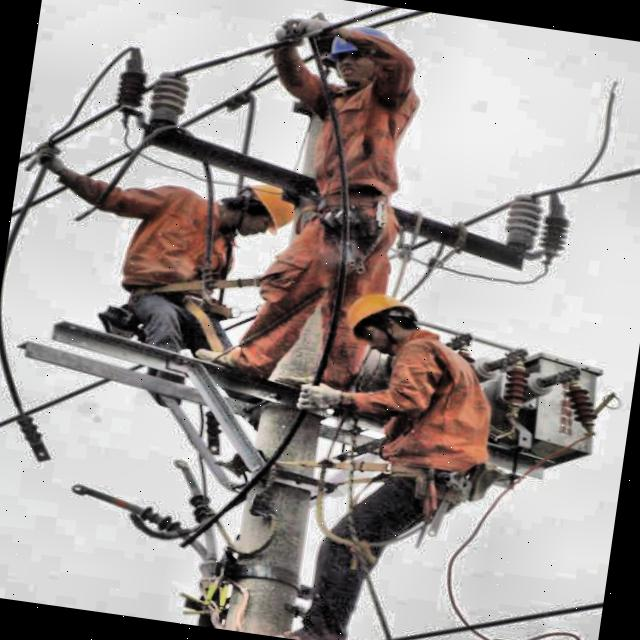helmet: (314, 10, 415, 97), (324, 285, 426, 362), (212, 168, 304, 248)
